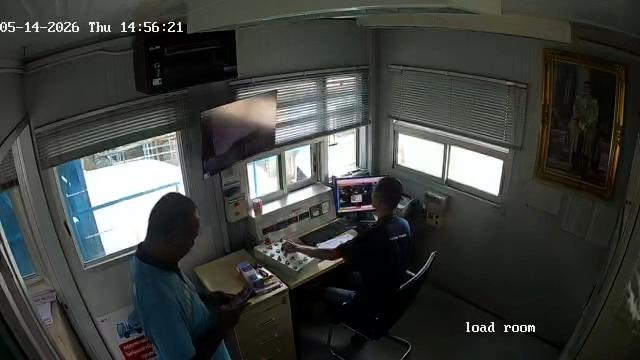Head: (149, 191, 196, 260), (371, 177, 404, 213)
People: (136, 191, 252, 357), (283, 176, 415, 296)
Phone: (230, 285, 258, 307)
